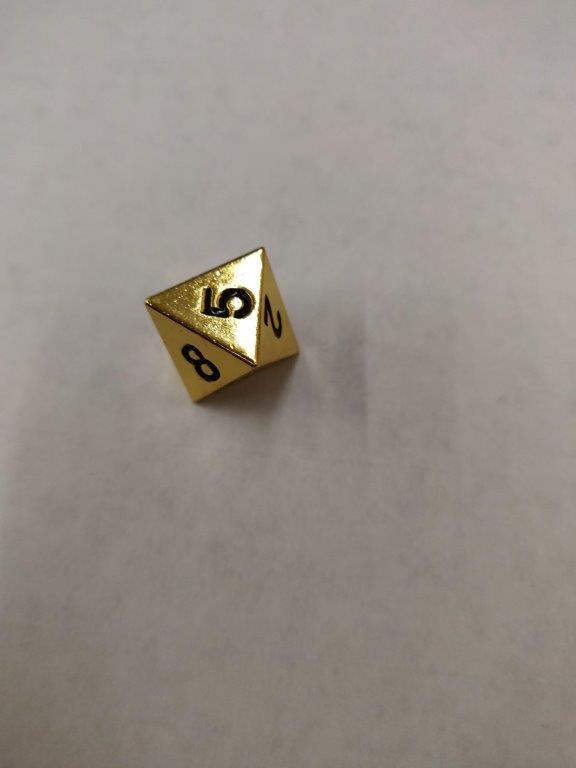d8-5: (143, 251, 303, 405)
